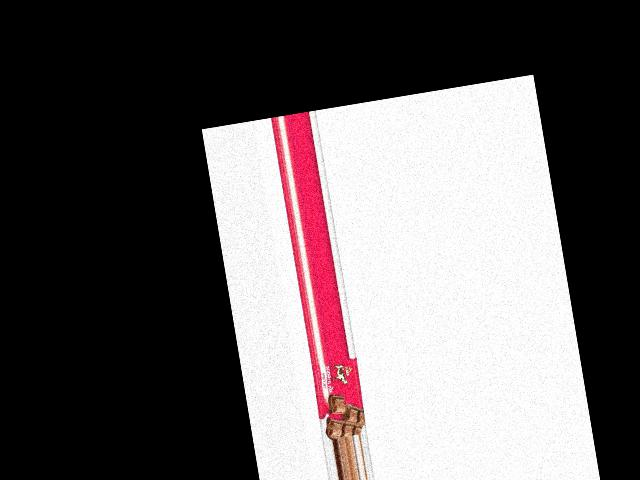chocolate: (310, 356, 368, 440)
